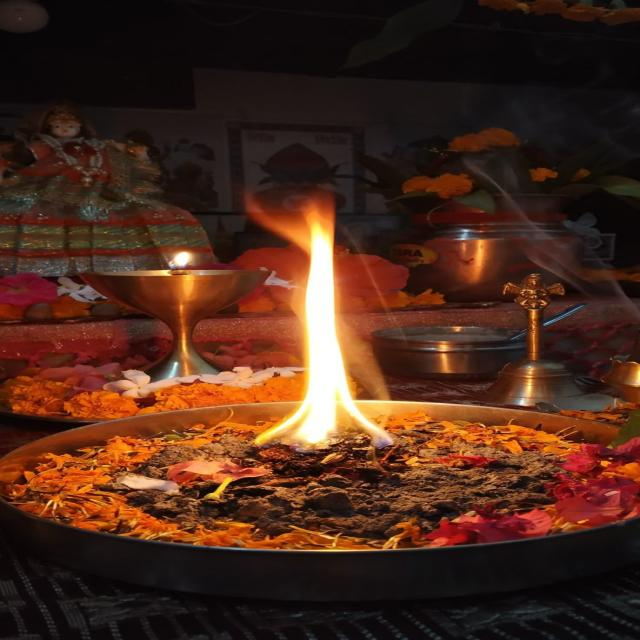fire: (250, 197, 403, 448)
